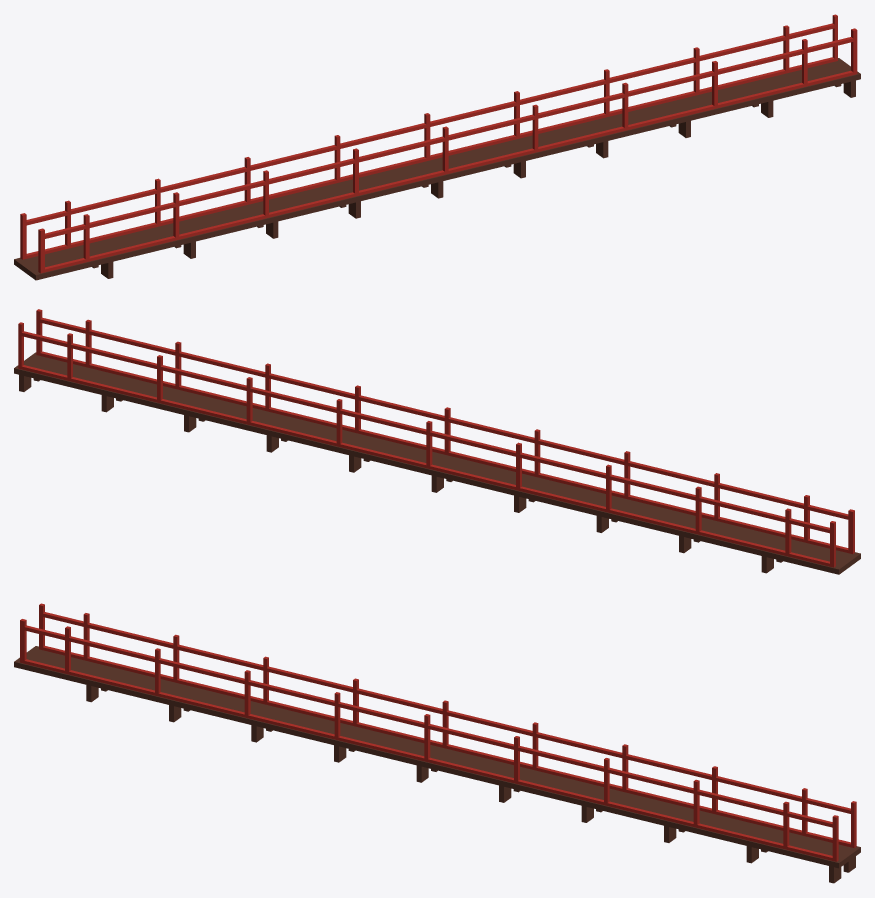
Rendered from bridge.fbx.
The picture shows the model from 3 angles, top to bottom: view 1: azimuth 30°, elevation 25°; view 2: azimuth 150°, elevation 25°; view 3: azimuth 330°, elevation 25°; orthographic projection.
Parts seen in each view (by area): view 1: Railing, Floor; view 2: Railing, Floor; view 3: Railing, Floor.
Part boxes in pixels (x1,y1,x2,y2): Railing: [20, 14, 857, 273]; Floor: [14, 58, 860, 280]; Railing: [18, 309, 854, 567]; Floor: [14, 352, 860, 574]; Railing: [20, 603, 856, 861]; Floor: [14, 646, 860, 883].
Bounding box in the file's own units: 10170 × 795 × 467.
